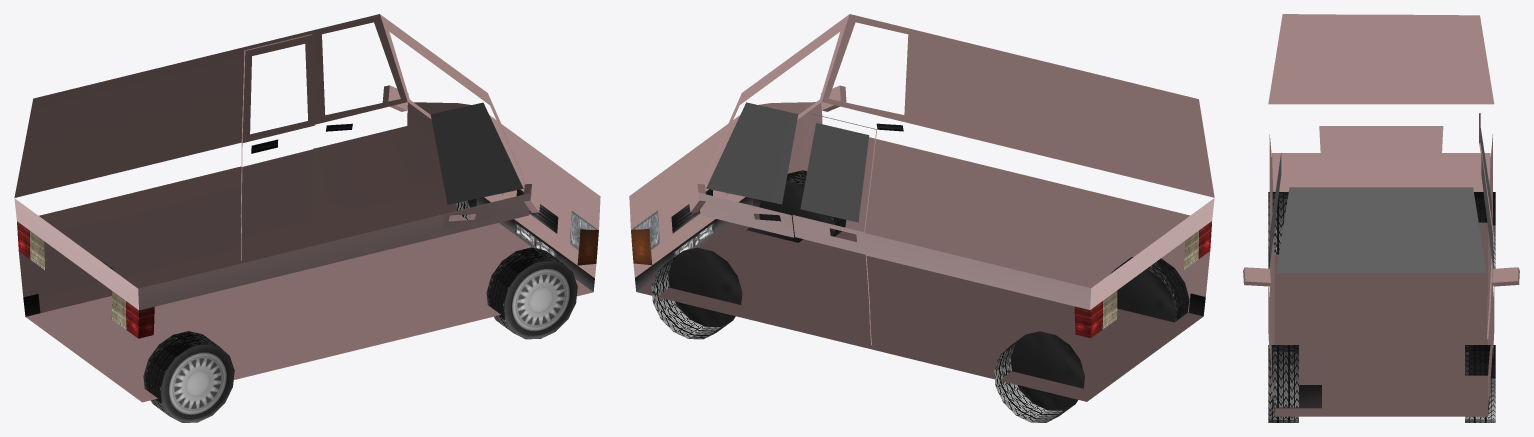
Rendered from MiniVan.gltf.
3 renders of one model, left to right at view 1: azimuth 30°, elevation 25°; view 2: azimuth 150°, elevation 25°; view 3: azimuth 270°, elevation 25°, orthographic. The views are drawn at different scales.
Parts seen in each view (by area): view 1: pCube4, WheelRL012, WheelRL011; view 2: pCube4, WheelRL013, WheelRL014, WheelRL012, WheelRL011; view 3: pCube4, WheelRL011, WheelRL013, WheelRL012, WheelRL014, pCube3, pCube2.
Boxes of the visible parts, x1,y1,x2,y2 form: pCube4: [14, 14, 600, 402]; WheelRL012: [143, 331, 234, 422]; WheelRL011: [486, 247, 577, 339]; pCube4: [629, 14, 1214, 401]; WheelRL013: [651, 247, 742, 339]; WheelRL014: [994, 331, 1084, 422]; WheelRL012: [1108, 257, 1189, 322]; WheelRL011: [759, 170, 846, 236]; pCube4: [1268, 14, 1494, 416]; WheelRL011: [1268, 345, 1298, 422]; WheelRL013: [1465, 345, 1495, 422]; WheelRL012: [1268, 192, 1288, 268]; WheelRL014: [1474, 192, 1495, 268]; pCube3: [1243, 267, 1270, 286]; pCube2: [1492, 267, 1519, 286].
Size of the model in its own units: 1.26 by 0.6558 by 0.7174.
Materials: 7 (4 with a texture image).
